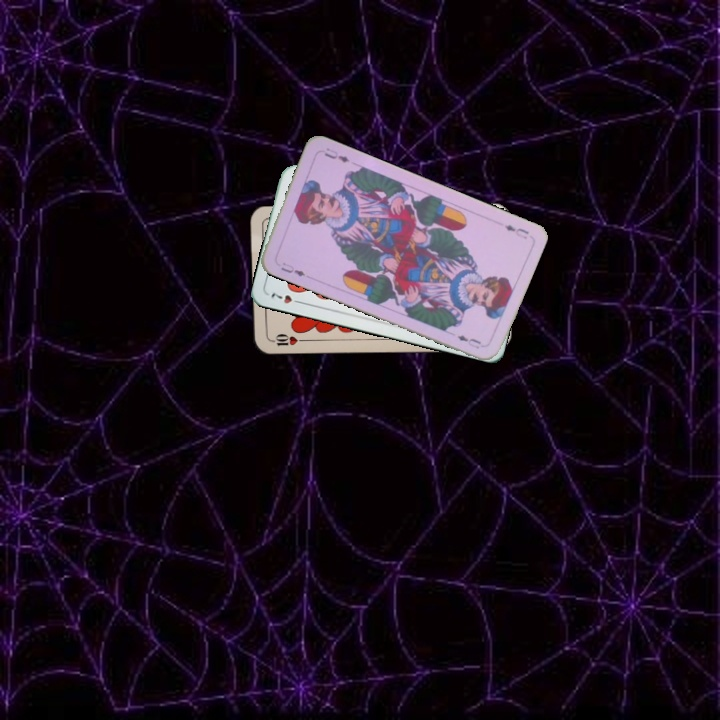EU: (277, 258, 308, 279), (501, 221, 531, 242)
H10: (266, 330, 307, 349)
H7: (267, 289, 306, 307)
